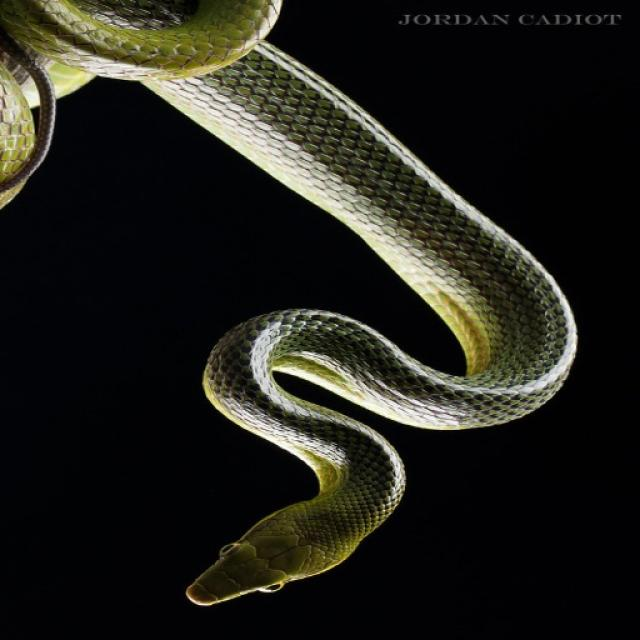snake: (150, 102, 616, 623)
